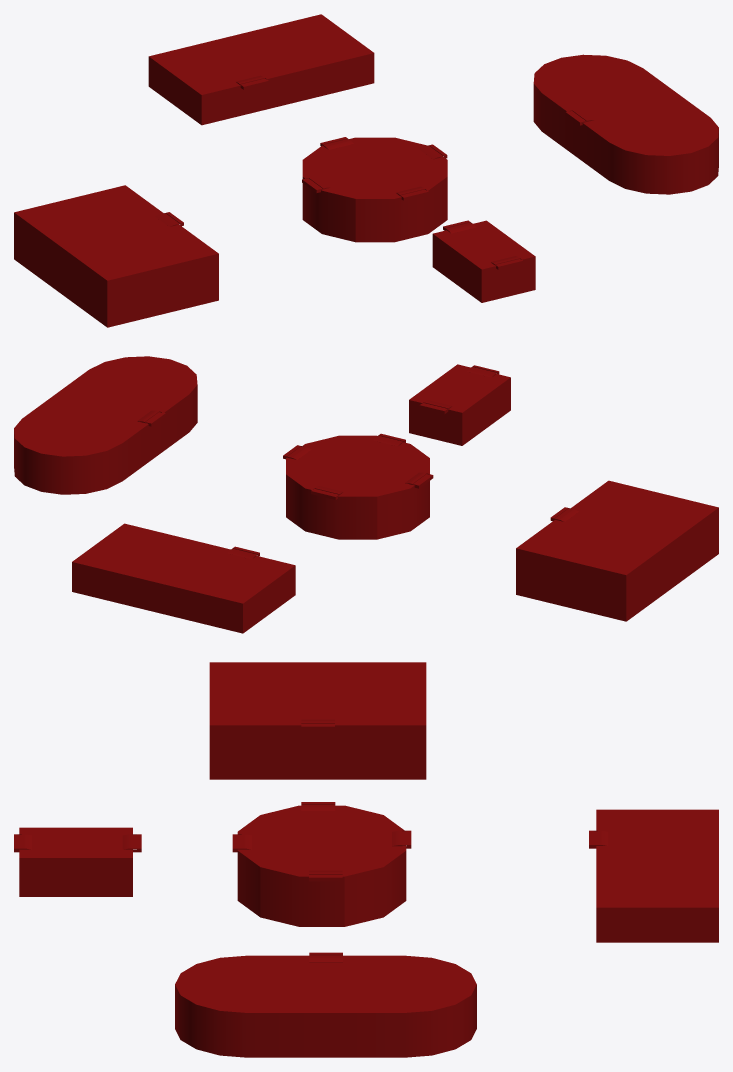
The model's file is Suolo_moduli.FBX.
3 views of the same model, one above another, from view 1: azimuth 30°, elevation 25°; view 2: azimuth 150°, elevation 25°; view 3: azimuth 270°, elevation 25° (orthographic). The views are drawn at different scales.
Visible parts, largest first — view 1: Base_medico, Base_idroponica, Base_meccanico, Base_hub, Base_depressuri, Connessioni_porta; view 2: Base_medico, Base_idroponica, Base_meccanico, Base_hub, Base_depressuri, Connessioni_porta; view 3: Base_idroponica, Base_medico, Base_hub, Base_meccanico, Base_depressuri, Connessioni_porta.
Part boxes in pixels (left/top/right/bottom): Base_medico: left=14, top=185, right=218, bottom=327; Base_idroponica: left=533, top=54, right=718, bottom=194; Base_meccanico: left=148, top=14, right=374, bottom=125; Base_hub: left=302, top=137, right=447, bottom=242; Base_depressuri: left=432, top=220, right=535, bottom=302; Connessioni_porta: left=155, top=75, right=593, bottom=269; Base_medico: left=516, top=480, right=718, bottom=621; Base_idroponica: left=14, top=356, right=197, bottom=494; Base_meccanico: left=72, top=523, right=295, bottom=633; Base_hub: left=286, top=435, right=429, bottom=539; Base_depressuri: left=409, top=364, right=510, bottom=445; Connessioni_porta: left=137, top=365, right=578, bottom=559; Base_idroponica: left=175, top=955, right=476, bottom=1057; Base_medico: left=209, top=662, right=426, bottom=779; Base_hub: left=237, top=805, right=406, bottom=926; Base_meccanico: left=596, top=809, right=718, bottom=942; Base_depressuri: left=19, top=827, right=132, bottom=896; Connessioni_porta: left=14, top=719, right=608, bottom=962.
Size of the model in its own units: 62.8 by 4.64 by 53.36.
